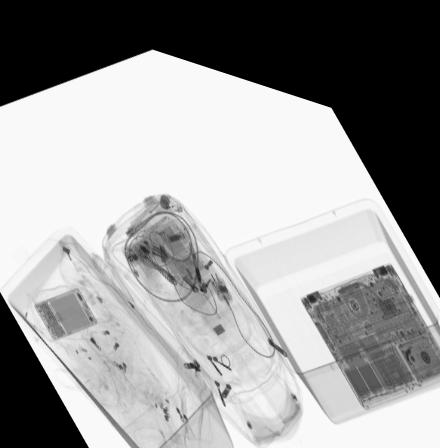Lighter: (151, 190, 178, 205)
